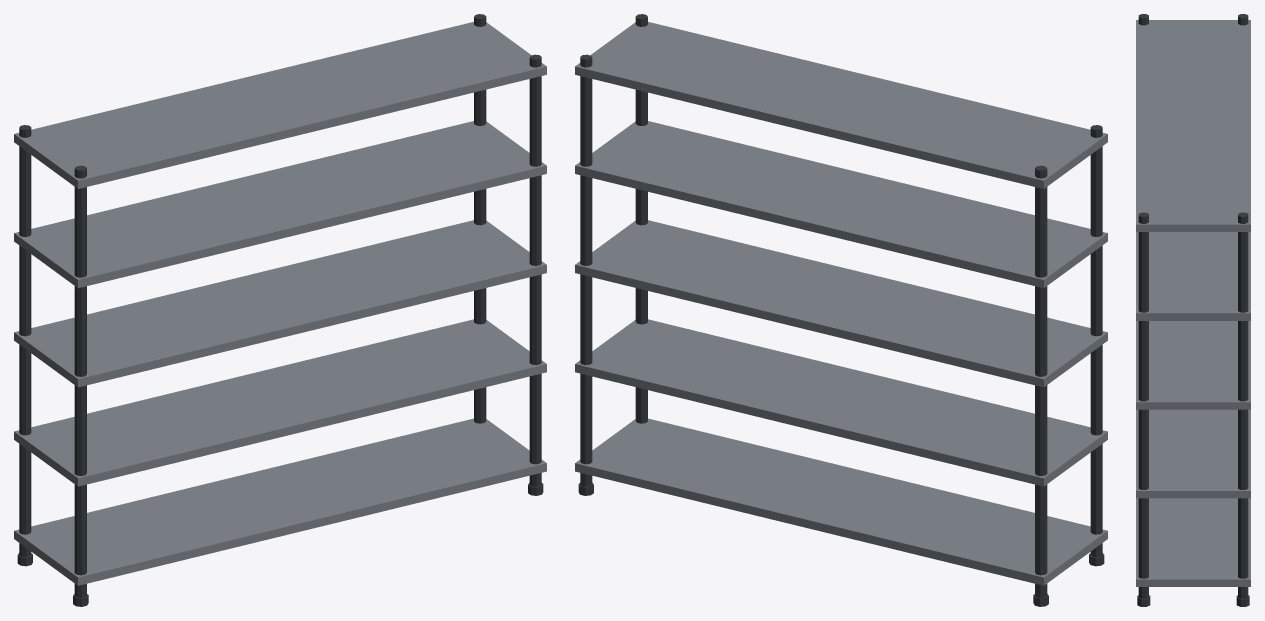
File: SM_Props_01.fbx
3 views of the same model, side by side, from view 1: azimuth 30°, elevation 25°; view 2: azimuth 150°, elevation 25°; view 3: azimuth 270°, elevation 25° (orthographic). The views are drawn at different scales.
Visible parts, largest first — view 1: SM_Props_01; view 2: SM_Props_01; view 3: SM_Props_01.
Part boxes in pixels (bbox=[...]): SM_Props_01: bbox=[14, 14, 546, 606]; SM_Props_01: bbox=[575, 14, 1107, 606]; SM_Props_01: bbox=[1136, 14, 1250, 606].
Bounding box in the file's own units: 244 × 216 × 57.67.
